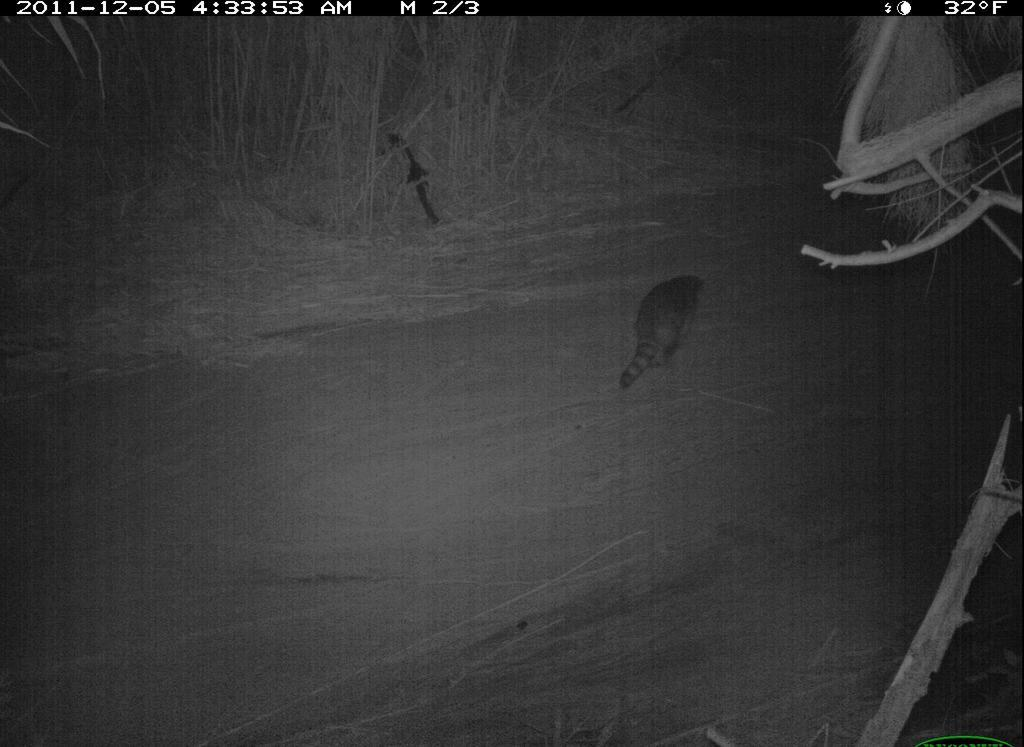raccoon: (611, 265, 710, 409)
